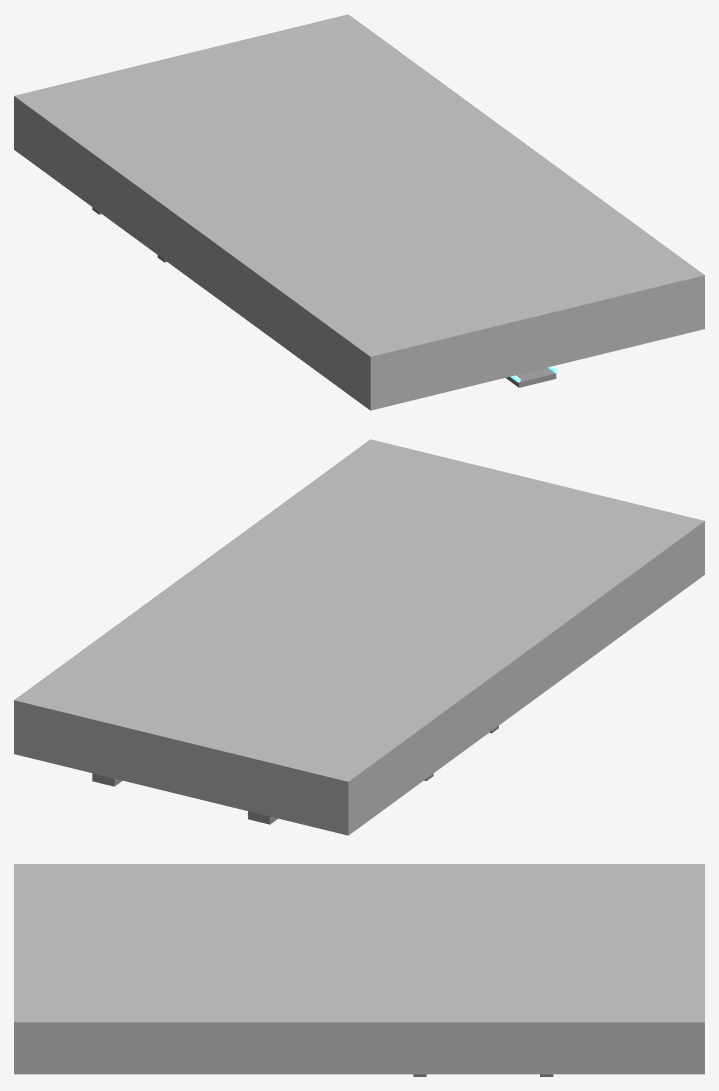
File: 1st hallway ceiliing.fbx
3 renders of one model, top to bottom at view 1: azimuth 30°, elevation 25°; view 2: azimuth 150°, elevation 25°; view 3: azimuth 270°, elevation 25°, orthographic. The views are drawn at different scales.
Parts seen in each view (by area): view 1: Cylinder.015; view 2: Cylinder.015; view 3: Cylinder.015.
Boxes of the visible parts, left/top/right/bottom form: Cylinder.015: left=14, top=14, right=704, bottom=410; Cylinder.015: left=14, top=439, right=704, bottom=835; Cylinder.015: left=14, top=864, right=704, bottom=1076.
Bounding box in the file's own units: 1300 × 250 × 2400.
